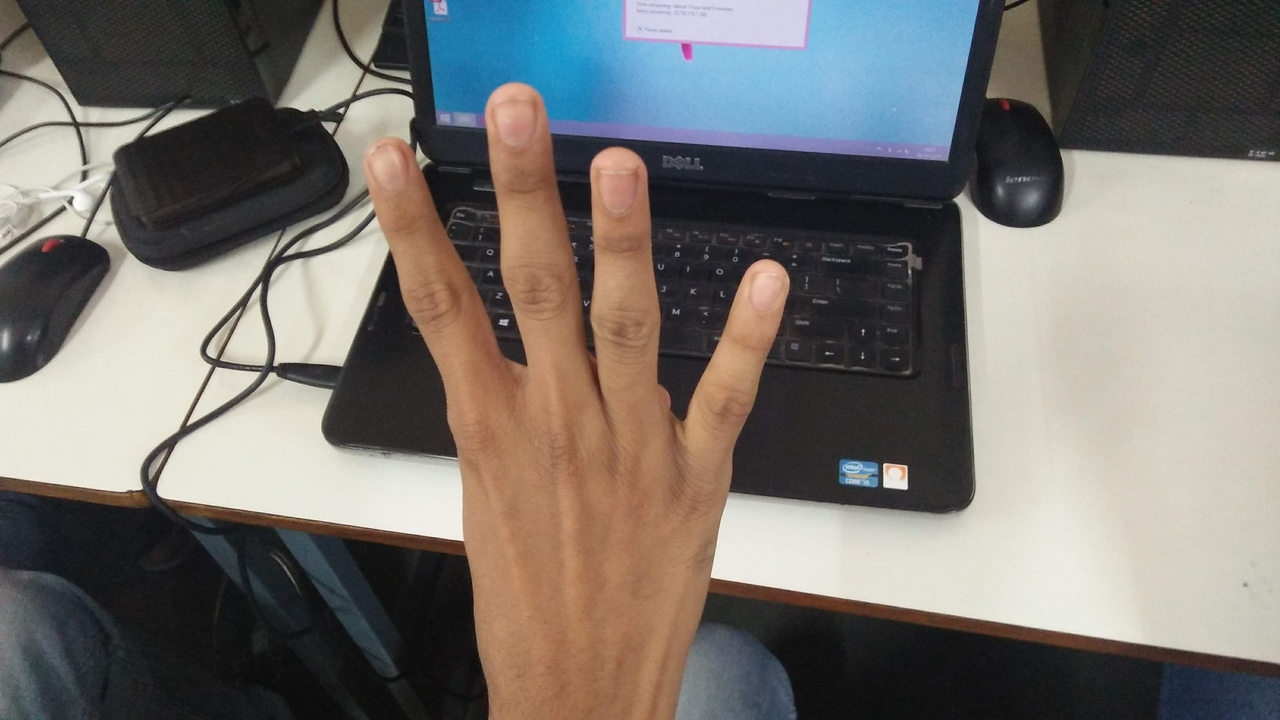fingertip: (580, 140, 654, 206), (730, 256, 794, 326), (478, 80, 548, 142), (352, 130, 418, 194)
